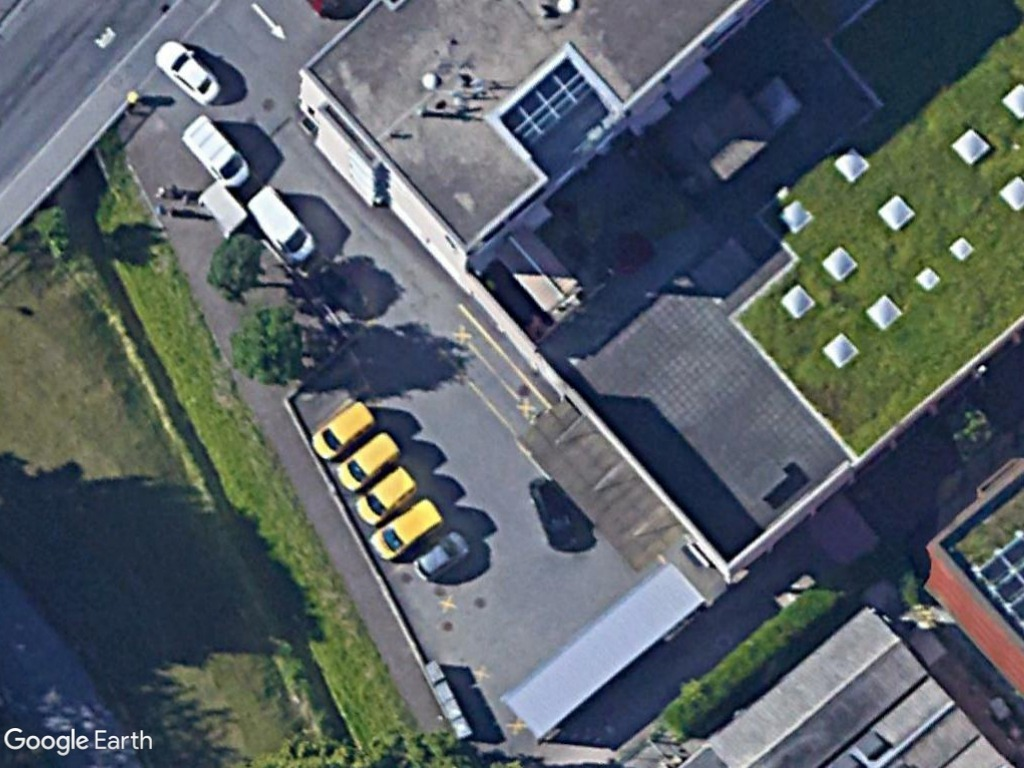car: (150, 39, 225, 106), (410, 528, 473, 586)
van: (242, 180, 318, 268), (360, 495, 444, 565), (177, 116, 251, 189), (333, 427, 401, 493), (310, 396, 376, 463), (353, 462, 417, 527)
